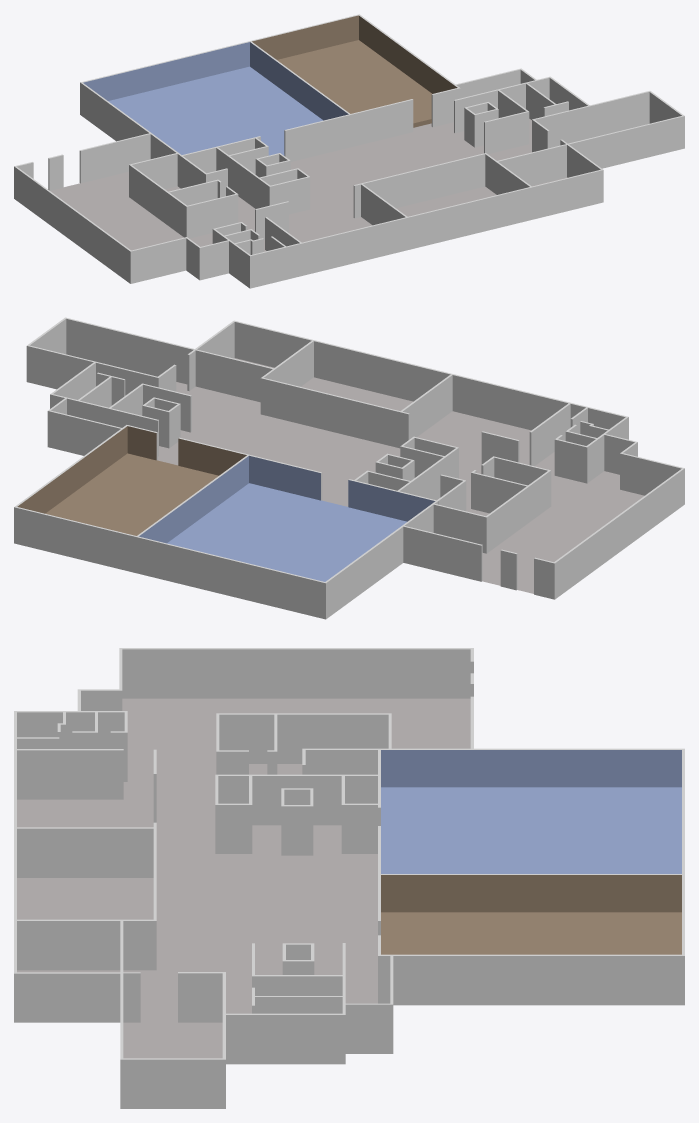
File: floor_1_2.glb
3 views of the same model, one above another, from view 1: azimuth 30°, elevation 25°; view 2: azimuth 150°, elevation 25°; view 3: azimuth 270°, elevation 25° (orthographic). The views are drawn at different scales.
Visible parts, largest first — view 1: join; view 2: join; view 3: join.
Boxes of the visible parts, x1=… form: join: x1=14, y1=14, x2=684, y2=288; join: x1=14, y1=317, x2=684, y2=619; join: x1=14, y1=648, x2=684, y2=1108.
Size of the model in its own units: 14.32 by 0.8012 by 9.86.
